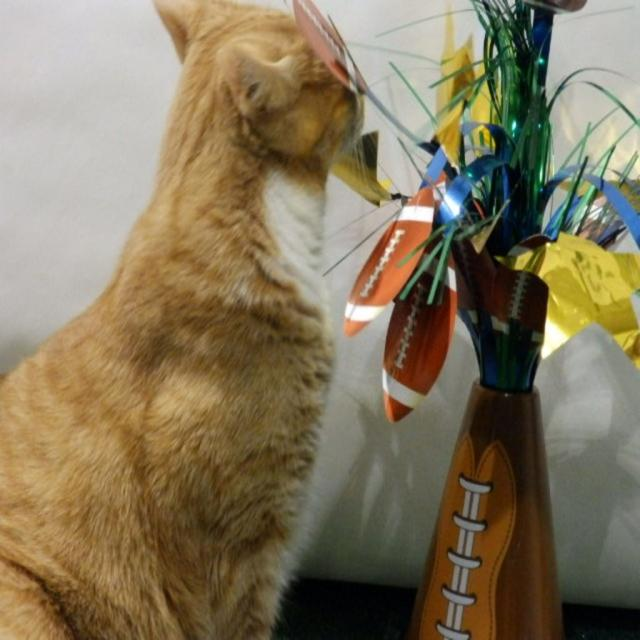Cat: (0, 0, 401, 635)
